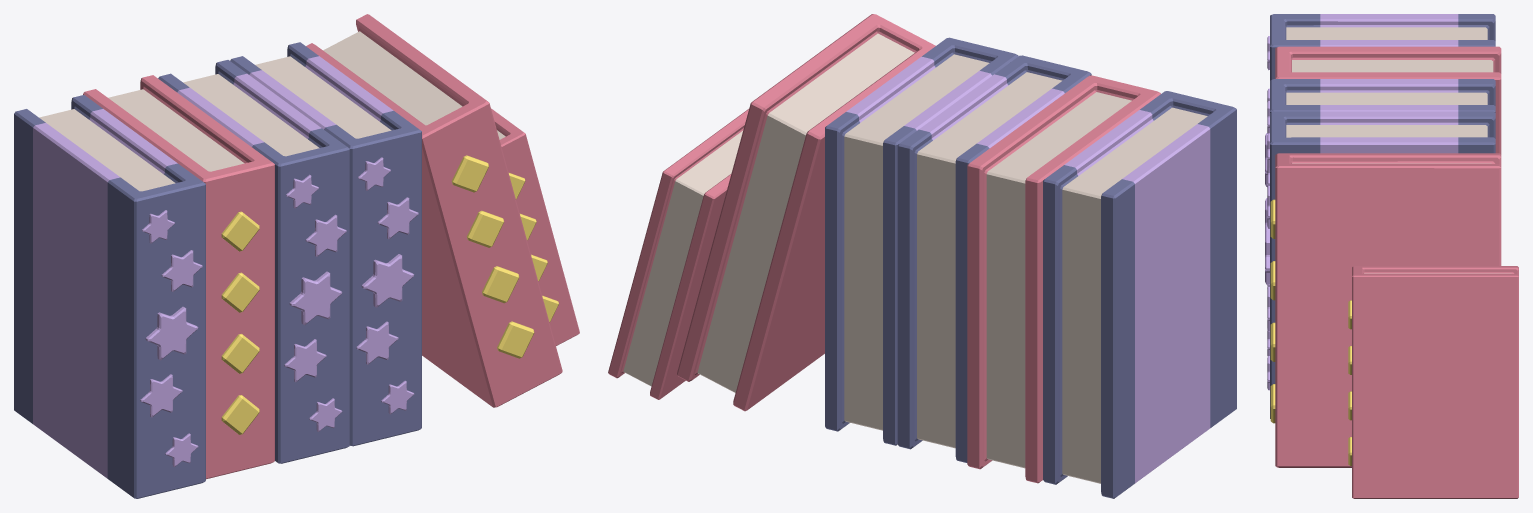
Rendered from Books_14.glb.
The picture shows the model from 3 angles, left to right: view 1: azimuth 30°, elevation 25°; view 2: azimuth 150°, elevation 25°; view 3: azimuth 270°, elevation 25°; orthographic projection. The views are drawn at different scales.
Visible parts, largest first — view 1: Books_14; view 2: Books_14; view 3: Books_14.
Part boxes in pixels (x1=…): Books_14: x1=14, y1=14, x2=579, y2=498; Books_14: x1=608, y1=14, x2=1236, y2=498; Books_14: x1=1265, y1=14, x2=1518, y2=498.
Size of the model in its own units: 0.6711 by 0.4043 by 0.3252.
1 material, 1 textured.
